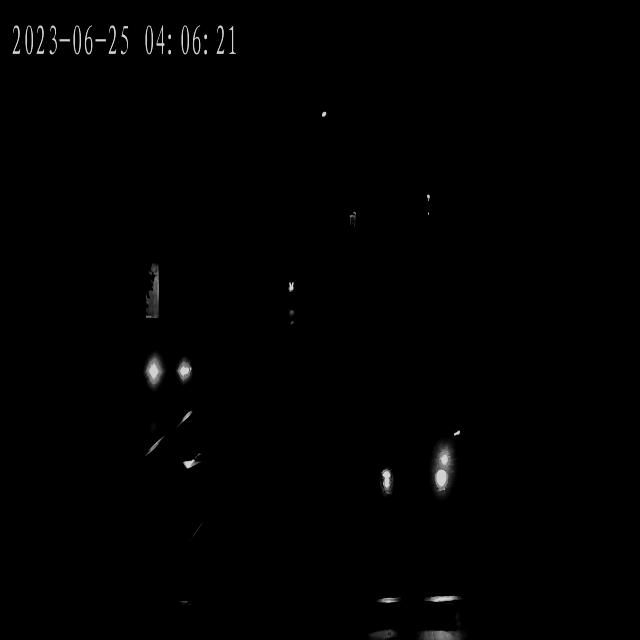Car: (362, 414, 461, 522), (137, 333, 205, 398)
